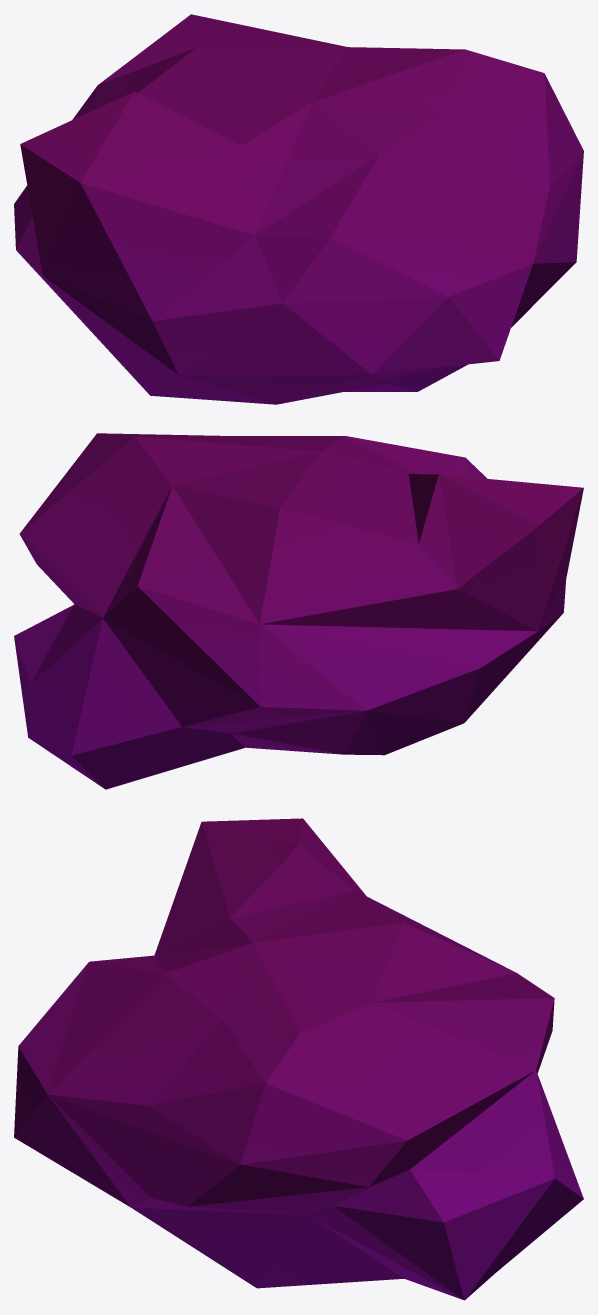
The model's file is SM_Env_Bush_02.glb.
3 views of the same model, one above another, from view 1: azimuth 30°, elevation 25°; view 2: azimuth 150°, elevation 25°; view 3: azimuth 270°, elevation 25° (orthographic). The views are drawn at different scales.
Visible parts, largest first — view 1: SM_Env_Bush_02; view 2: SM_Env_Bush_02; view 3: SM_Env_Bush_02.
Part boxes in pixels (<box>): SM_Env_Bush_02: <box>14,14,583,404</box>; SM_Env_Bush_02: <box>14,433,583,789</box>; SM_Env_Bush_02: <box>14,818,583,1300</box>.
Bounding box in the file's own units: 5.25 × 3.29 × 5.23.
